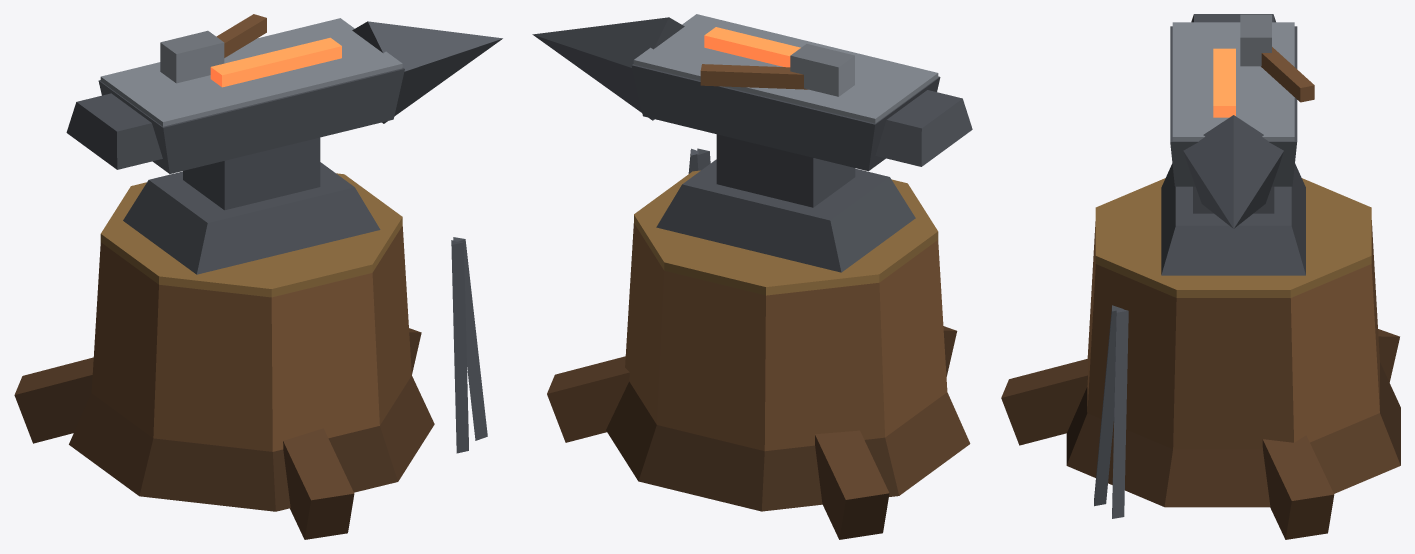
Rendered from anvil.glb.
3 renders of one model, left to right at view 1: azimuth 30°, elevation 25°; view 2: azimuth 150°, elevation 25°; view 3: azimuth 270°, elevation 25°, orthographic. The views are drawn at different scales.
Parts seen in each view (by area): view 1: anvil; view 2: anvil; view 3: anvil.
Part boxes in pixels (x1,y1,x2,y2): anvil: (14,14,502,539); anvil: (532,14,972,539); anvil: (1001,14,1400,539).
Bounding box in the file's own units: 1.06 × 0.9824 × 0.8837.
